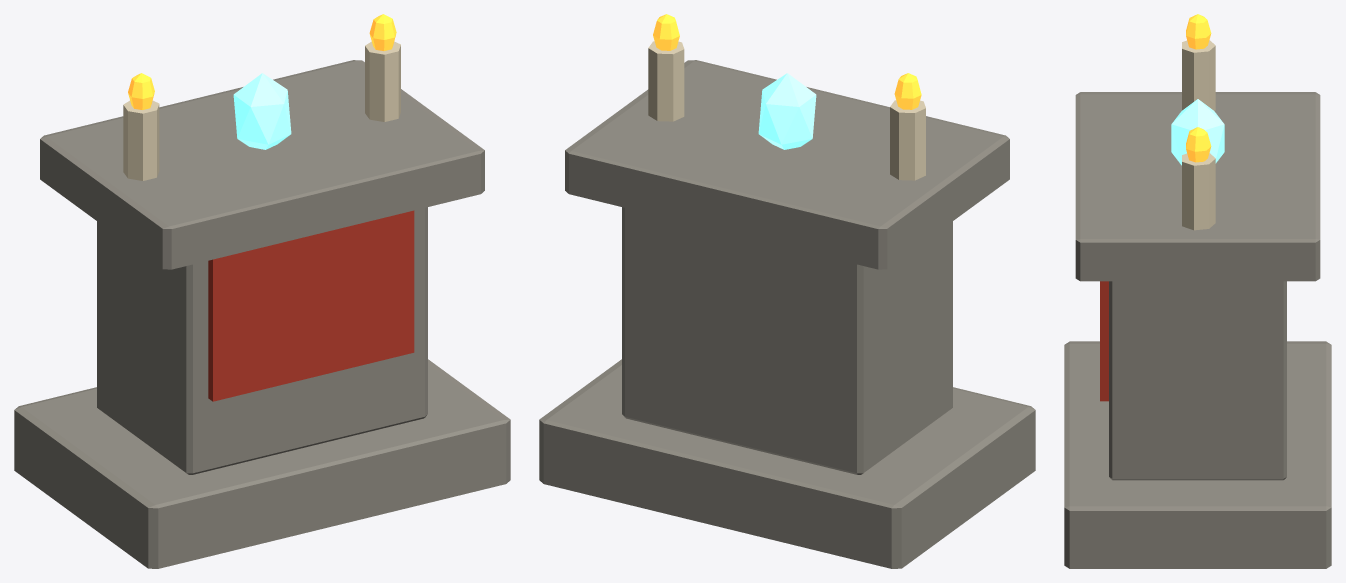
Rendered from altar-lod1.glb.
The picture shows the model from 3 angles, left to right: view 1: azimuth 30°, elevation 25°; view 2: azimuth 150°, elevation 25°; view 3: azimuth 270°, elevation 25°; orthographic projection. The views are drawn at different scales.
Parts seen in each view (by area): view 1: altar; view 2: altar; view 3: altar.
Boxes of the visible parts, x1=… form: altar: x1=14, y1=14, x2=510, y2=568; altar: x1=539, y1=14, x2=1035, y2=568; altar: x1=1064, y1=14, x2=1331, y2=568.
Bounding box in the file's own units: 0.9 × 1.03 × 0.6.
